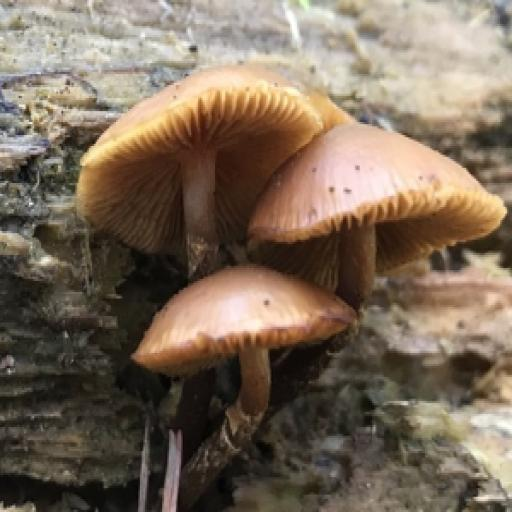mushroom: (72, 47, 506, 419)
